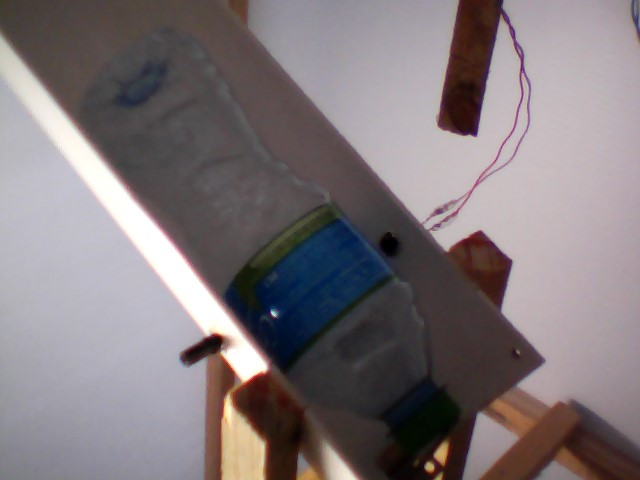plastico: (72, 25, 473, 462)
